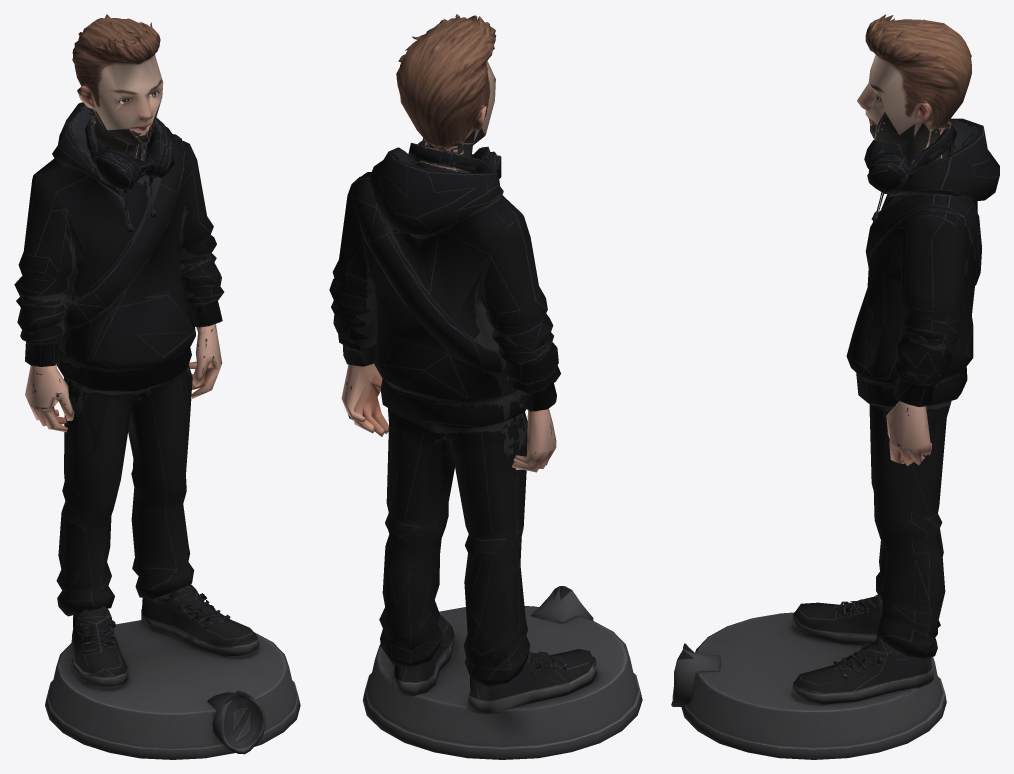
The model's file is Bishop_Rafael_Black.glb.
The picture shows the model from 3 angles, left to right: view 1: azimuth 30°, elevation 25°; view 2: azimuth 150°, elevation 25°; view 3: azimuth 270°, elevation 25°; orthographic projection. The views are drawn at different scales.
Visible parts, largest first — view 1: tripo_node_719a1010-f7b9-45c7-9979-b695d3198f0a; view 2: tripo_node_719a1010-f7b9-45c7-9979-b695d3198f0a; view 3: tripo_node_719a1010-f7b9-45c7-9979-b695d3198f0a.
Part boxes in pixels (<box>): tripo_node_719a1010-f7b9-45c7-9979-b695d3198f0a: <box>14,14,300,759</box>; tripo_node_719a1010-f7b9-45c7-9979-b695d3198f0a: <box>329,14,642,759</box>; tripo_node_719a1010-f7b9-45c7-9979-b695d3198f0a: <box>671,14,999,759</box>.
Size of the model in its own units: 0.3535 by 0.998 by 0.4355.
Materials: 1 (1 with a texture image).
